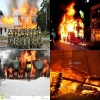fire: (50, 61, 100, 98), (59, 2, 87, 45), (1, 1, 37, 28), (19, 50, 36, 77), (41, 59, 49, 75), (3, 66, 7, 75), (9, 68, 12, 76)
